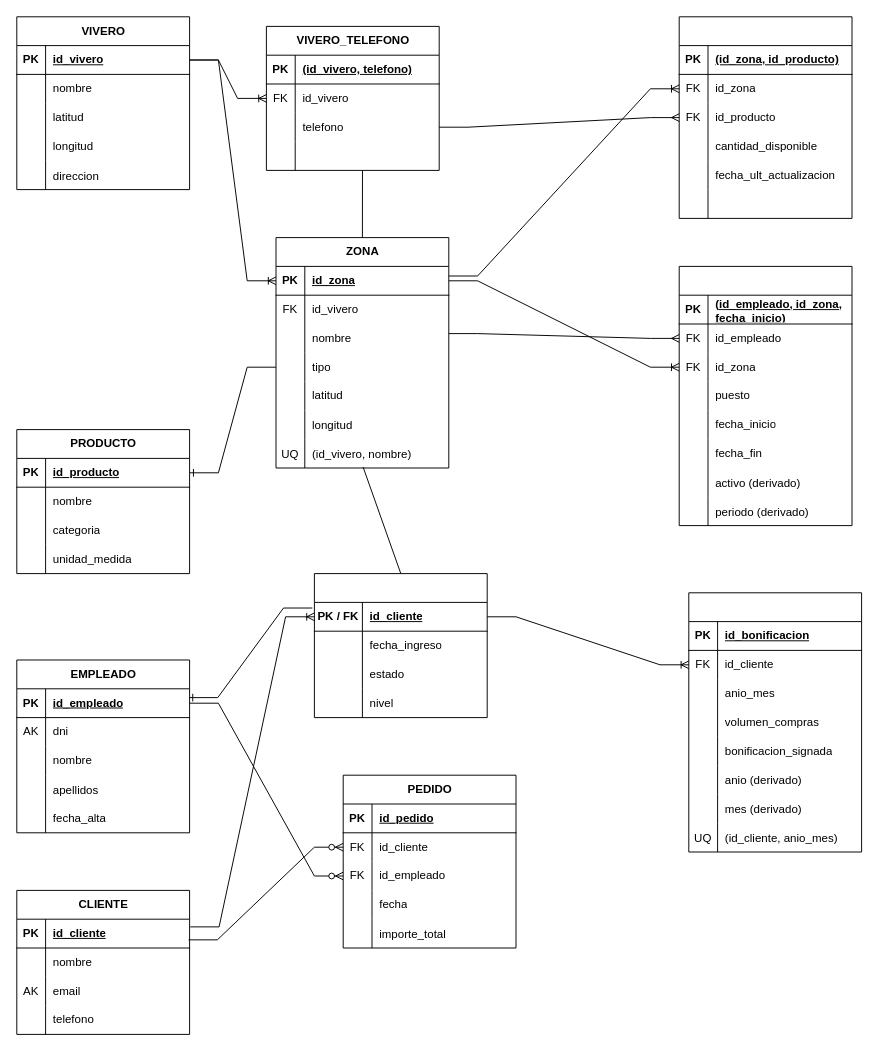
This 878x1051 diagram has some shape labels left out. Here are the shapes that lost their labels. From the top down, the box of each, then its label:
(678, 16, 852, 218): INVENTARIO
(678, 265, 852, 526): ASIGNADO_A
(313, 573, 487, 718): CLIENTE_PLUS
(688, 592, 862, 852): BONIFICACION_MENSUAL
